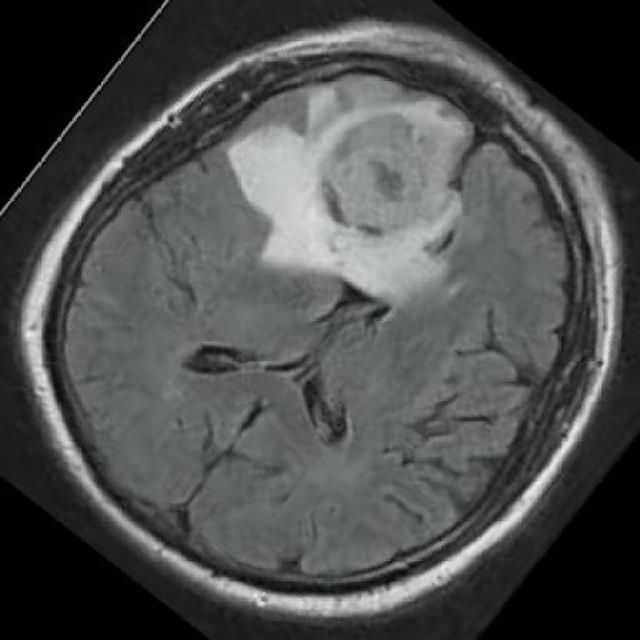Brain-Tumor: (230, 62, 508, 315)
